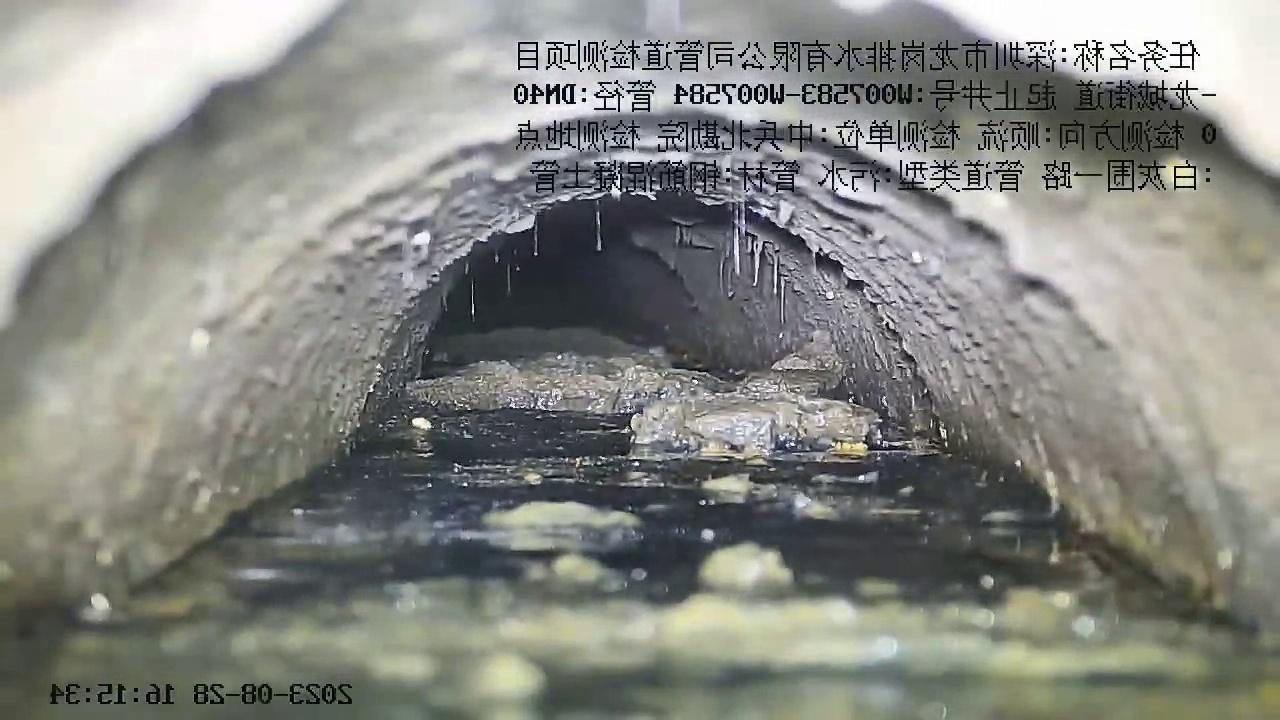CJ: (1, 409, 1280, 719), (405, 327, 881, 458)
JG: (17, 113, 1267, 619)
